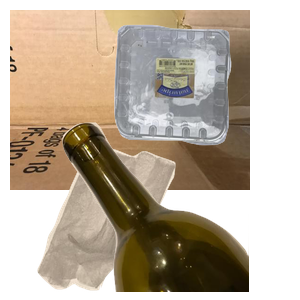cardboard: (10, 10, 250, 190)
glass: (60, 120, 300, 300)
plastic: (112, 22, 300, 160)
trash: (35, 140, 203, 300)
